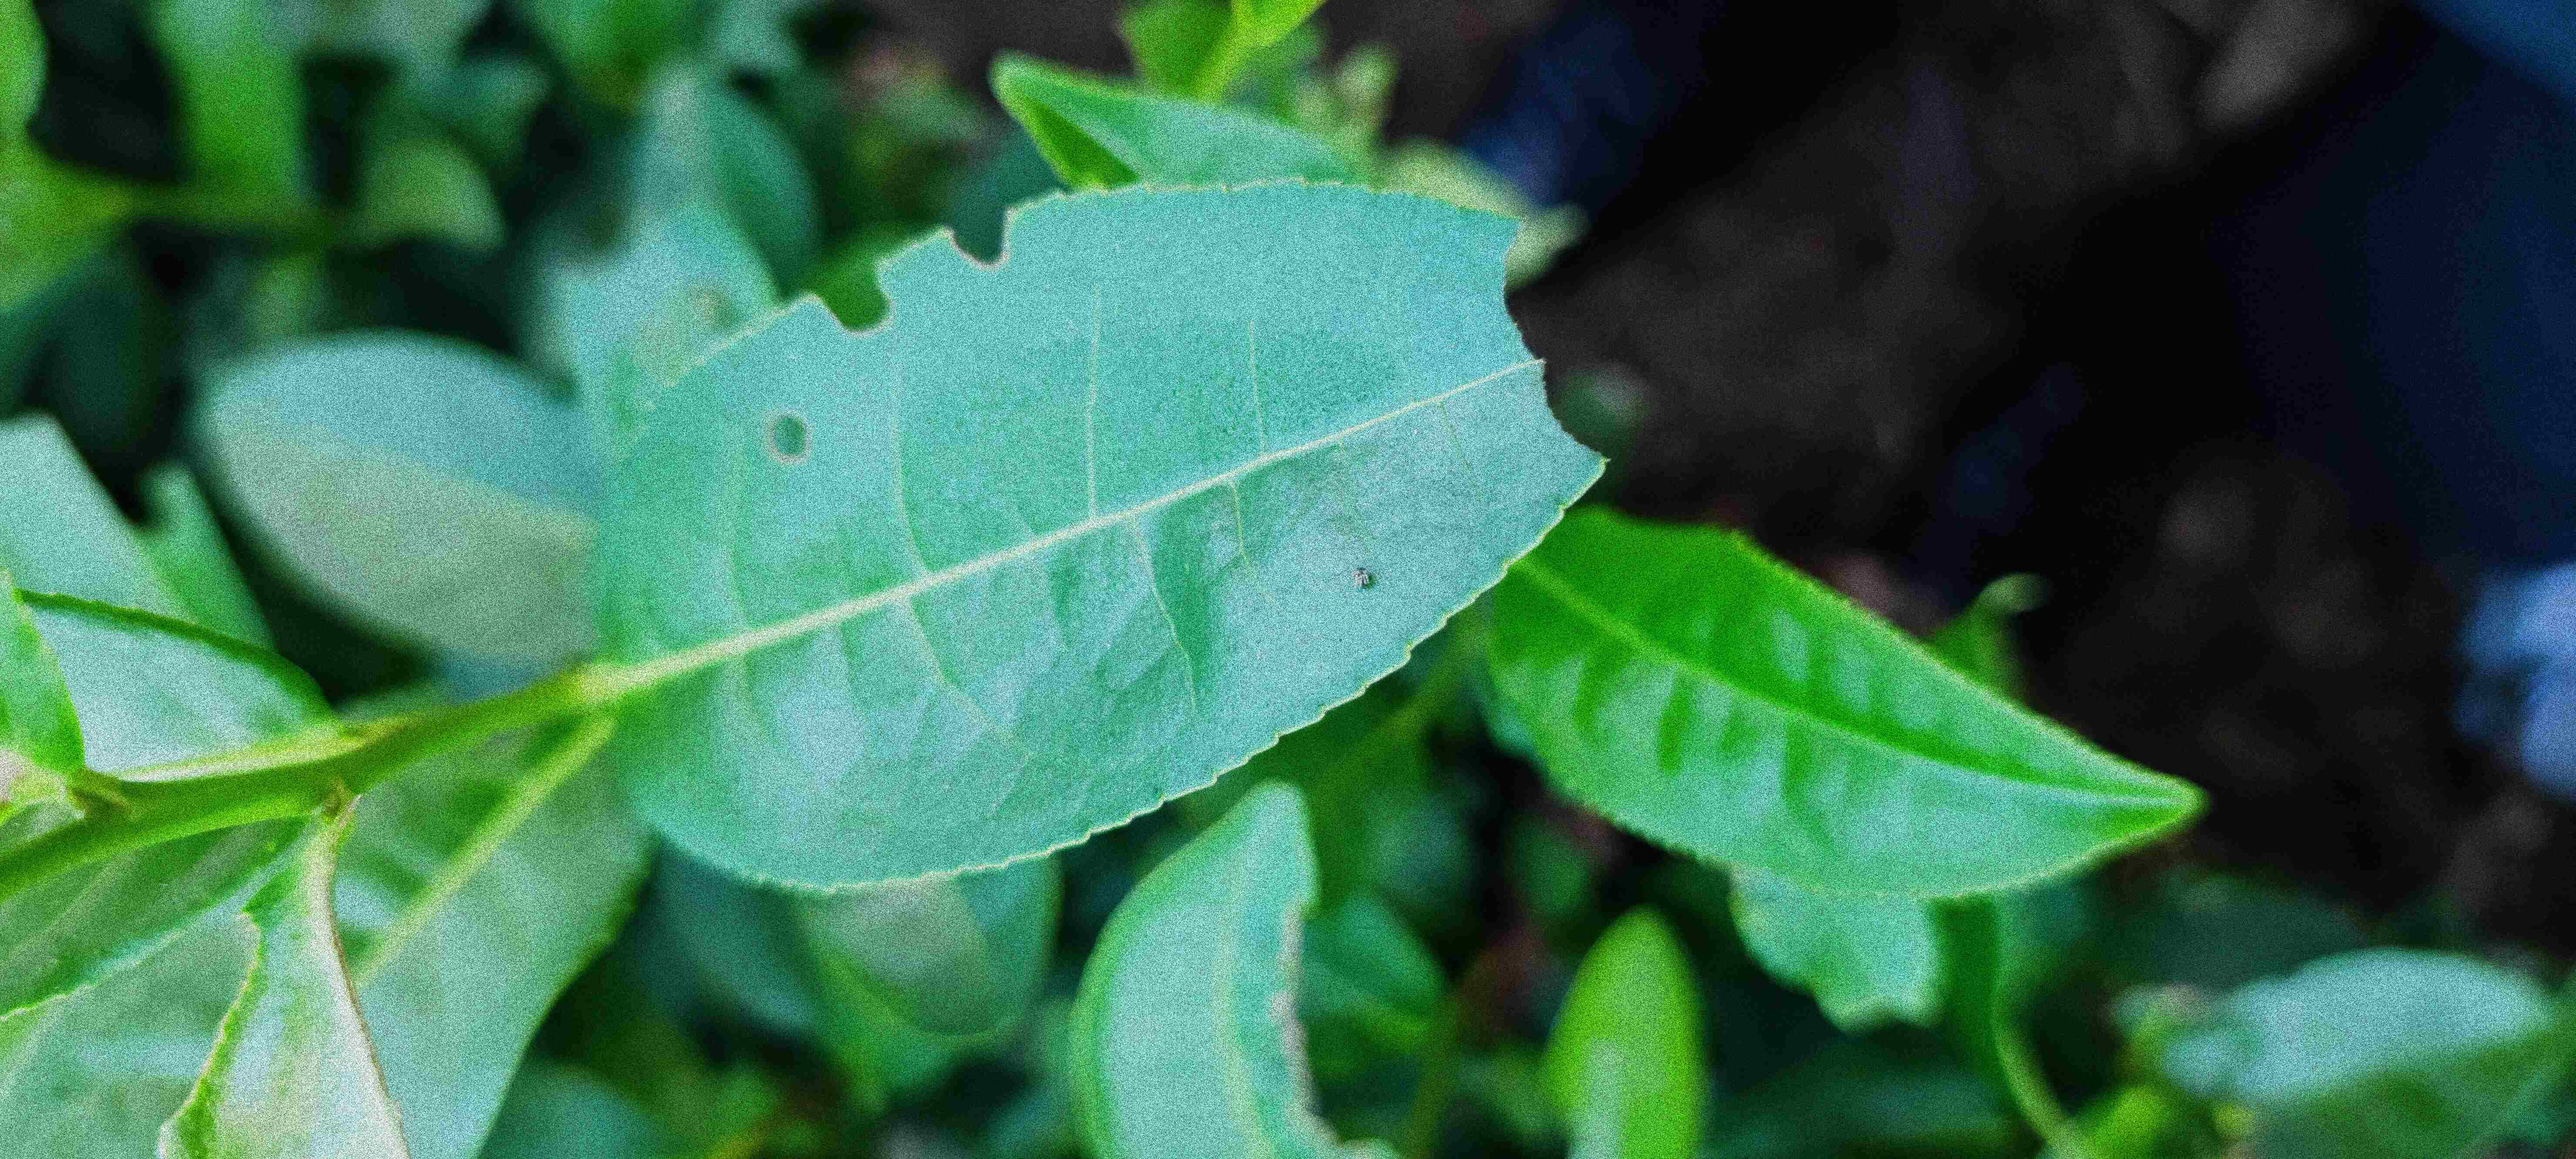chihuo_high: (600, 172, 1607, 896)
chihuo_low: (1065, 775, 1401, 1159)
healthy: (1479, 504, 2203, 905)
